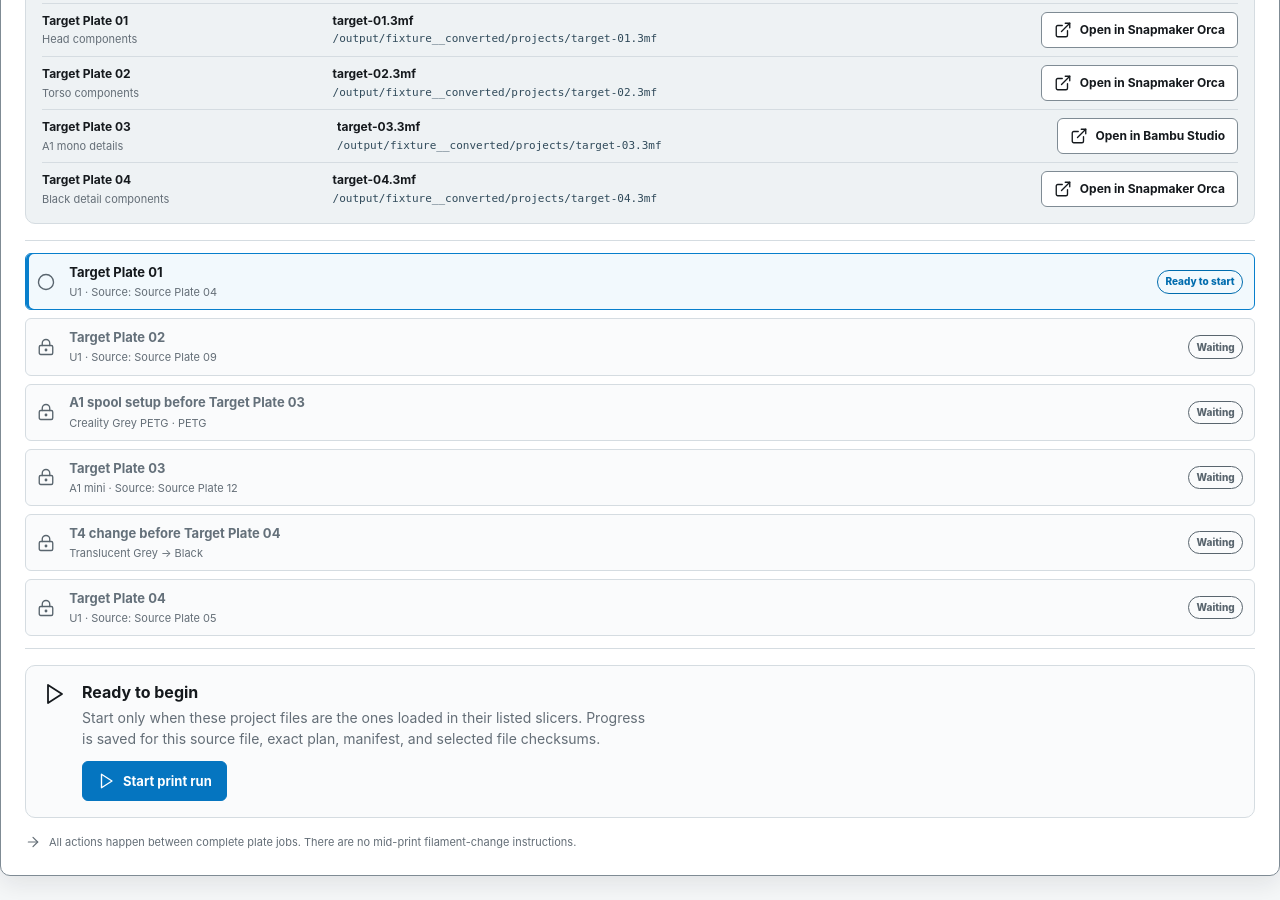
Scenario: PrintRun › resets saved operator progress without changing the validated plan
The image size is (1280, 900).
(page scrolled)
What coordinates should you click on to do the following:
click the button "Start print run"
I would click on:
 (154, 781)
Its box is [82, 761, 227, 801].
(page scrolled)
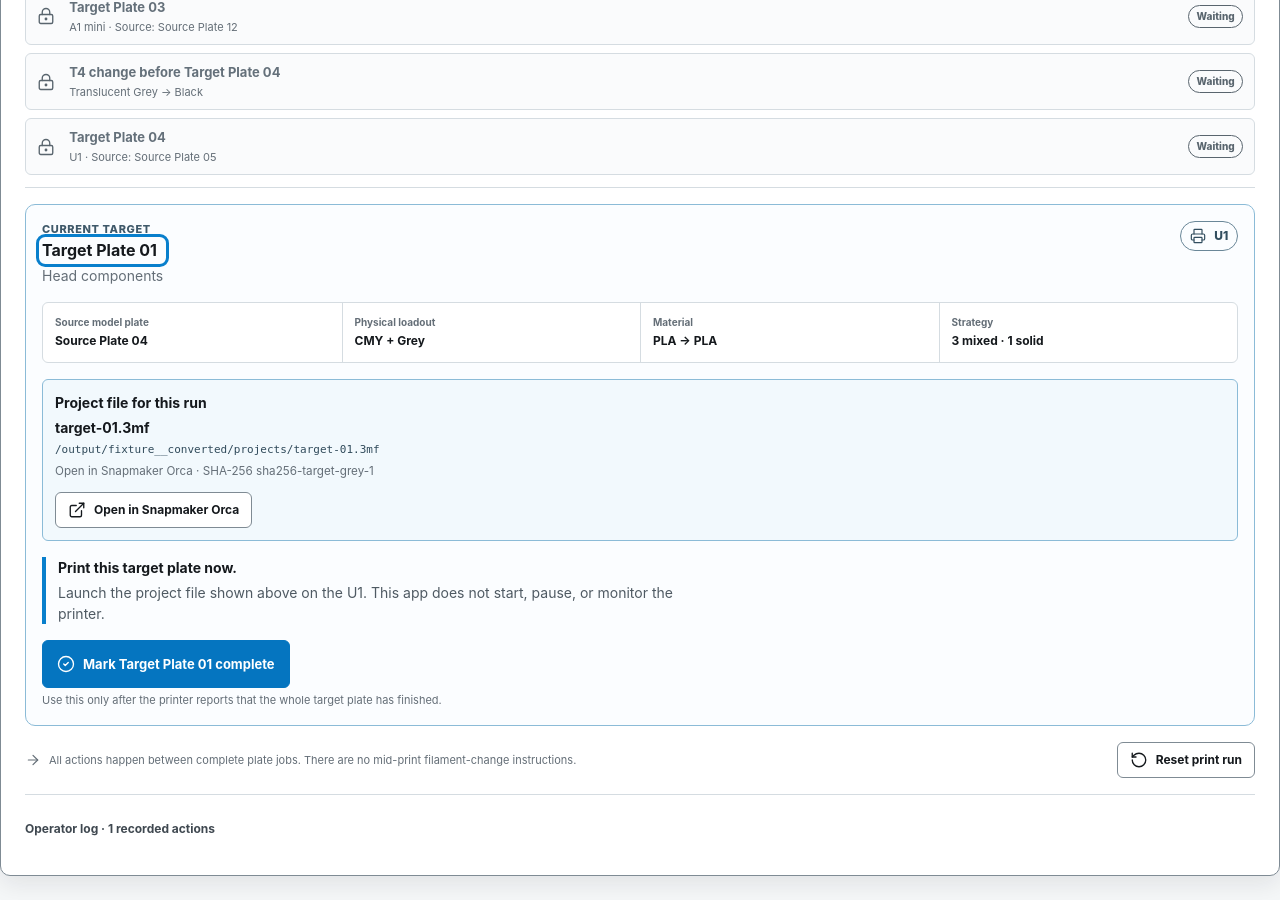
What coordinates should you click on to do the following:
click the button "Mark Target Plate 01 complete"
I would click on:
 (166, 664)
Its box is [42, 640, 290, 688].
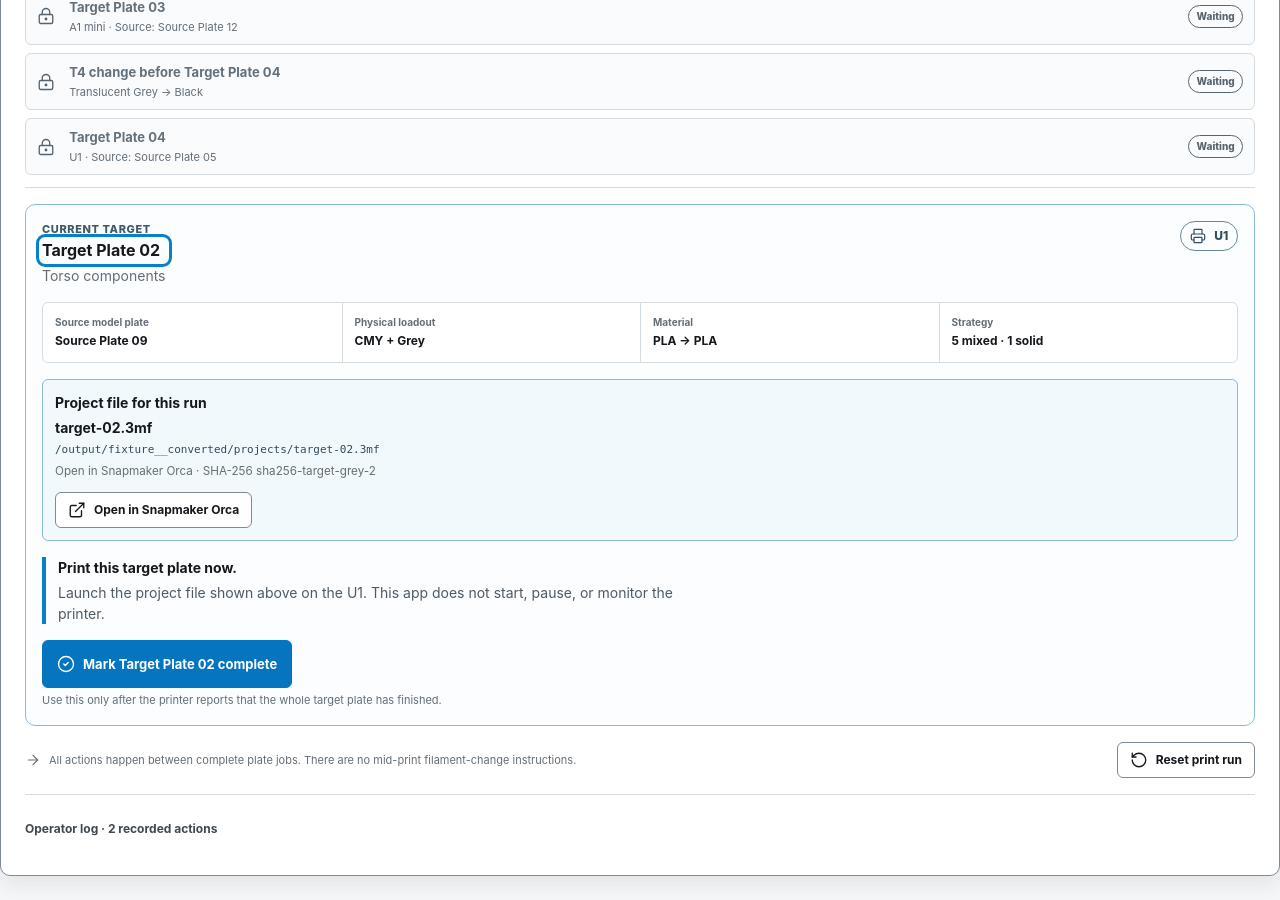
What coordinates should you click on to do the following:
click the button "Reset print run"
I would click on:
 (1186, 760)
Its box is [1117, 742, 1255, 778].
(page scrolled)
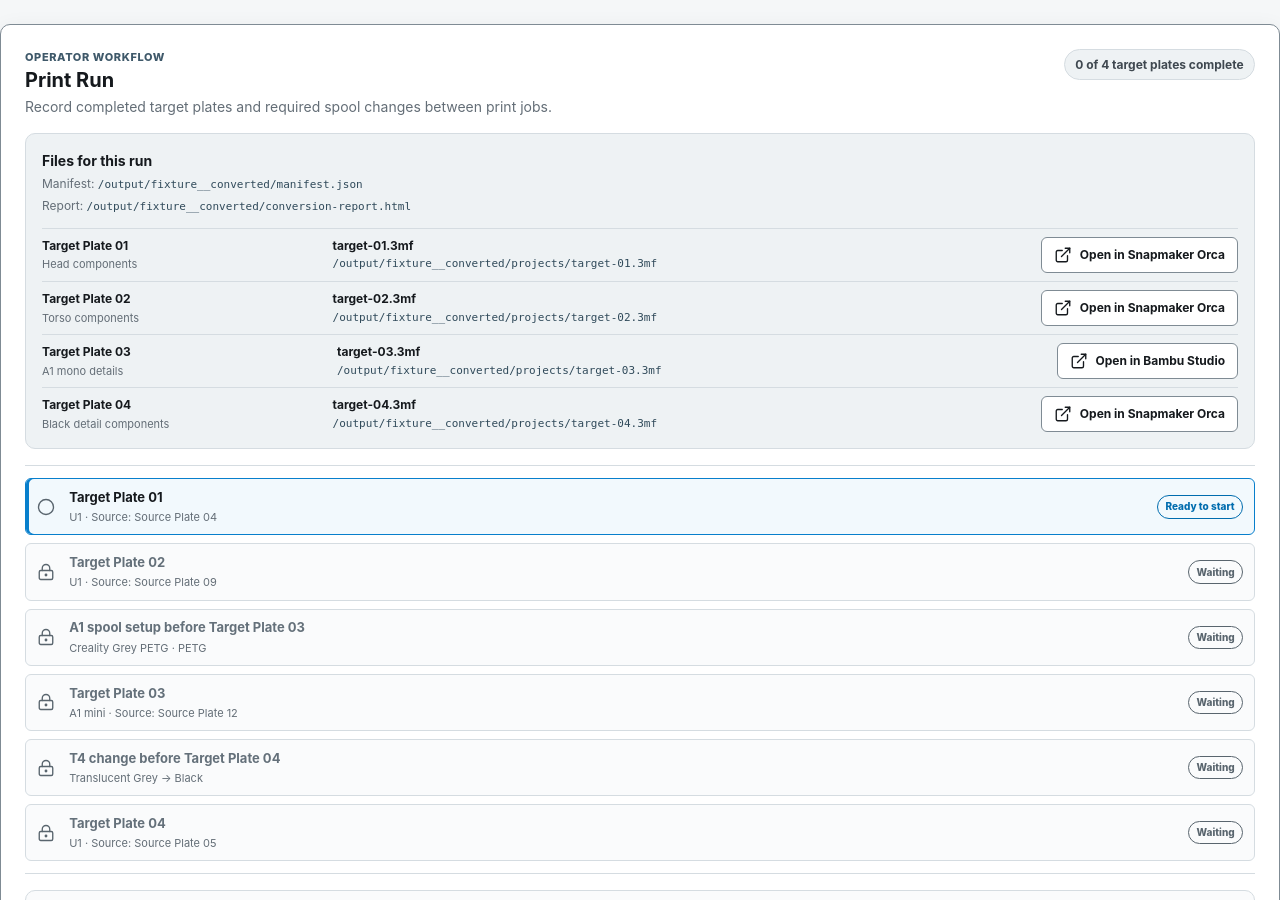
Result: the text "0 of 4 target plates complete" is shown at [1064, 49, 1255, 80]
